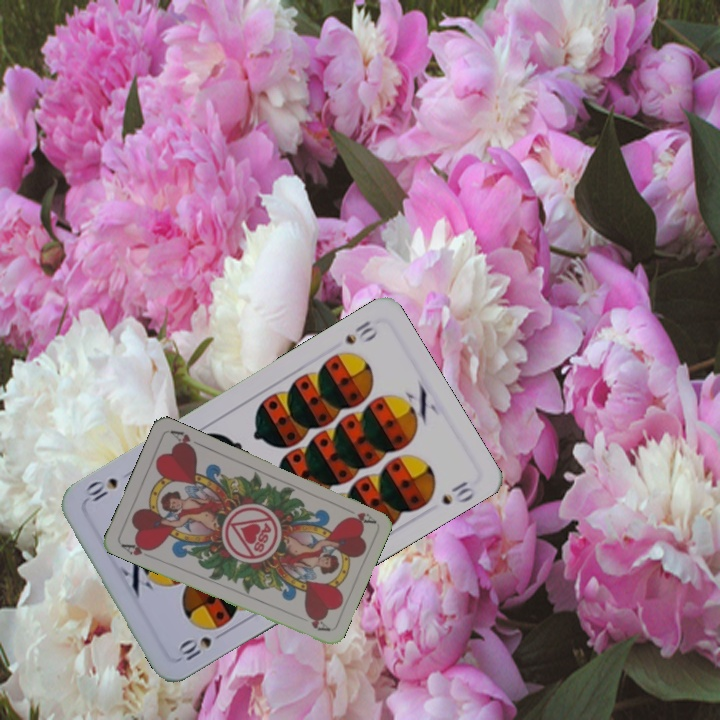HA: (338, 503, 378, 527), (117, 538, 156, 561)
S10: (174, 627, 229, 666), (341, 316, 380, 347)
